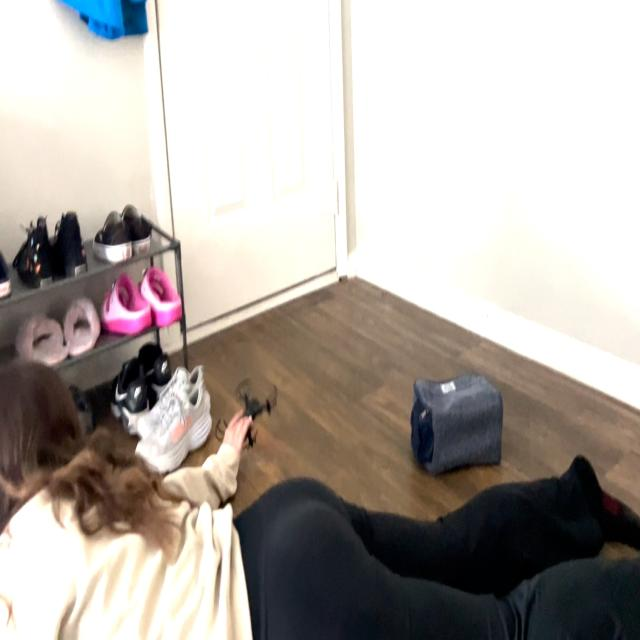drone: (215, 357, 287, 471)
